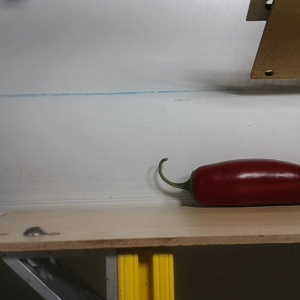Cut Point: (179, 164, 210, 207)
